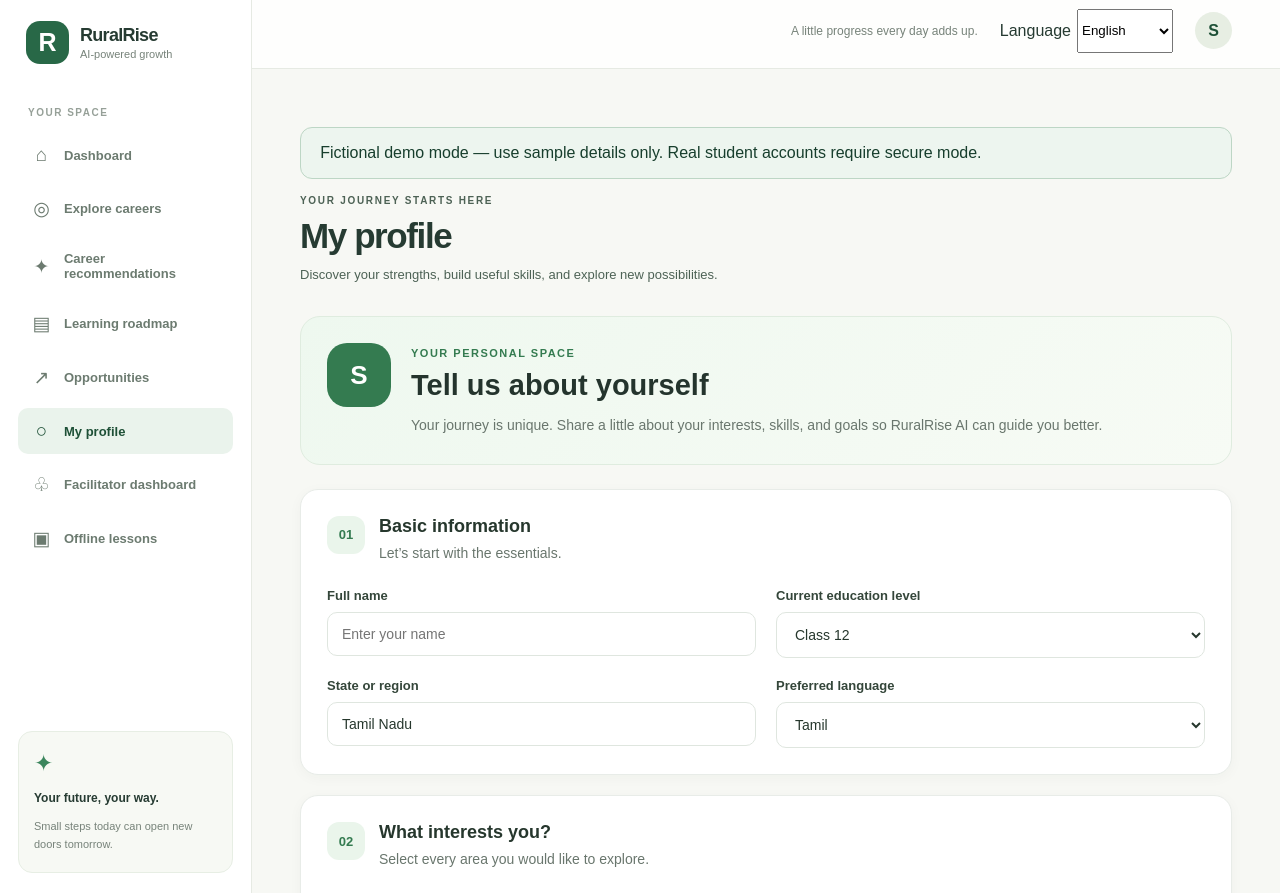
Scenario: shows failed profile persistence and never claims a successful save
Step 1. Type "Fictional Test Learner" into the field labelled "Full name" → (542, 634), box [327,612,756,656]
(page scrolled)
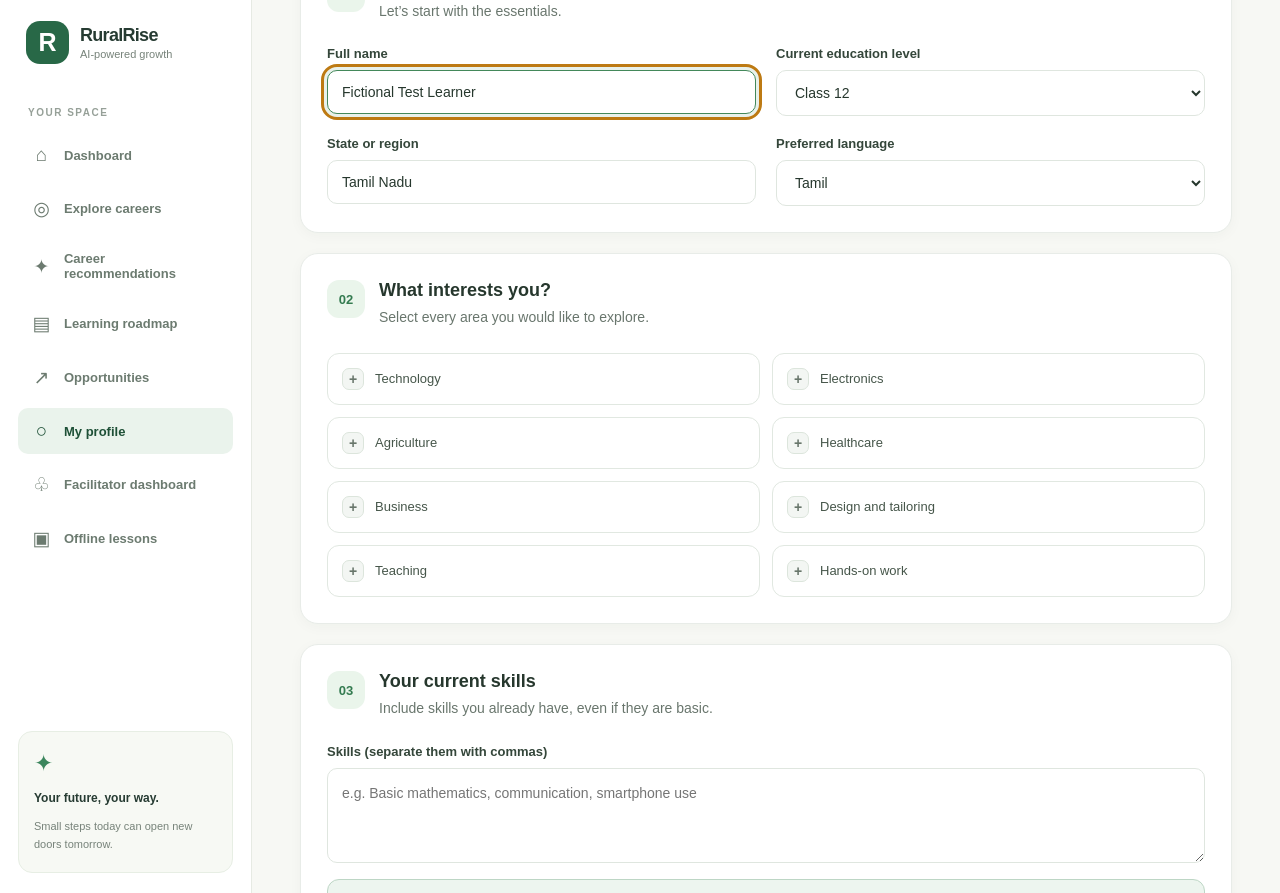
Step 2. Click the checkbox labelled "+ Agriculture" → (406, 443), box [327,417,760,469]
(page scrolled)
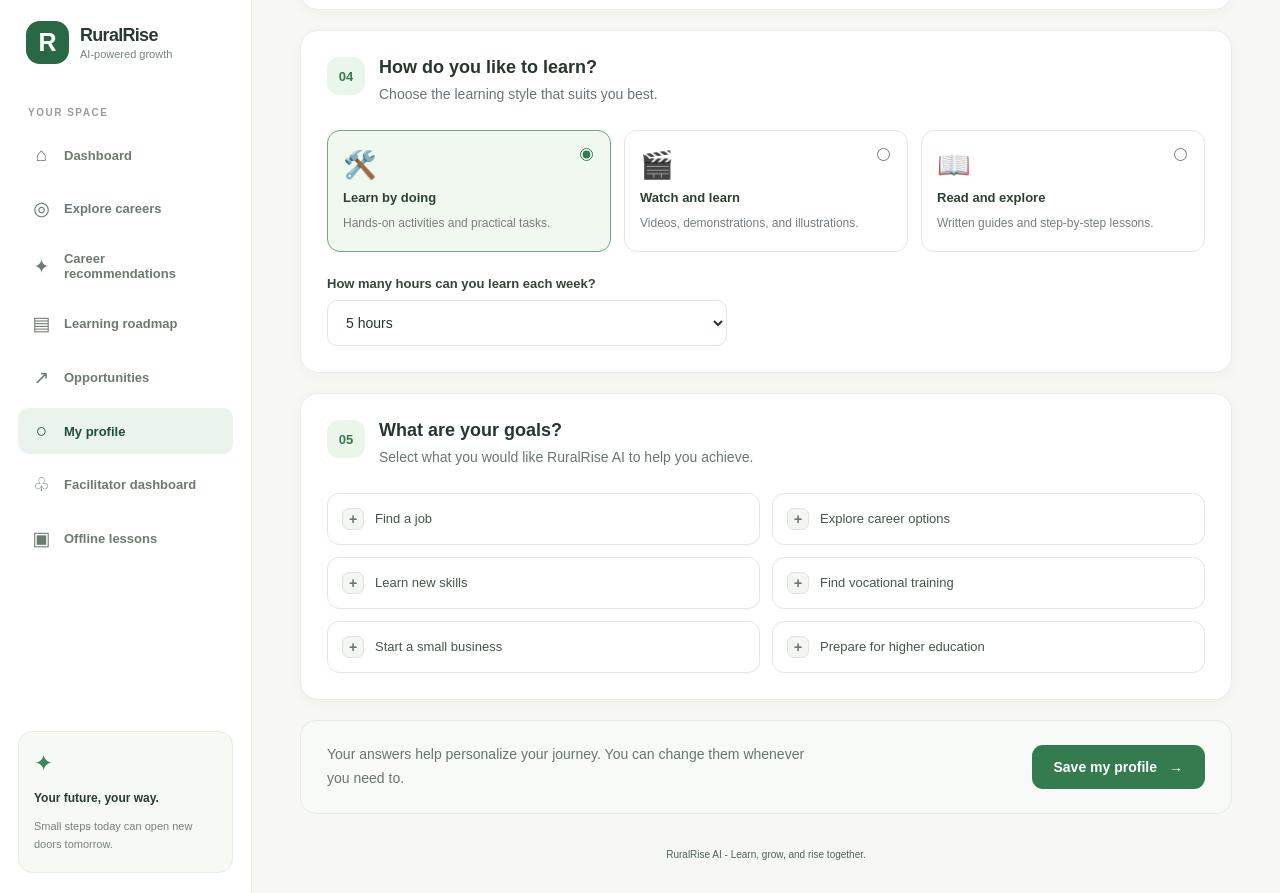
Step 3. Click the button "Save my profile →" → (1118, 767), box [1032,745,1205,789]
(page scrolled)
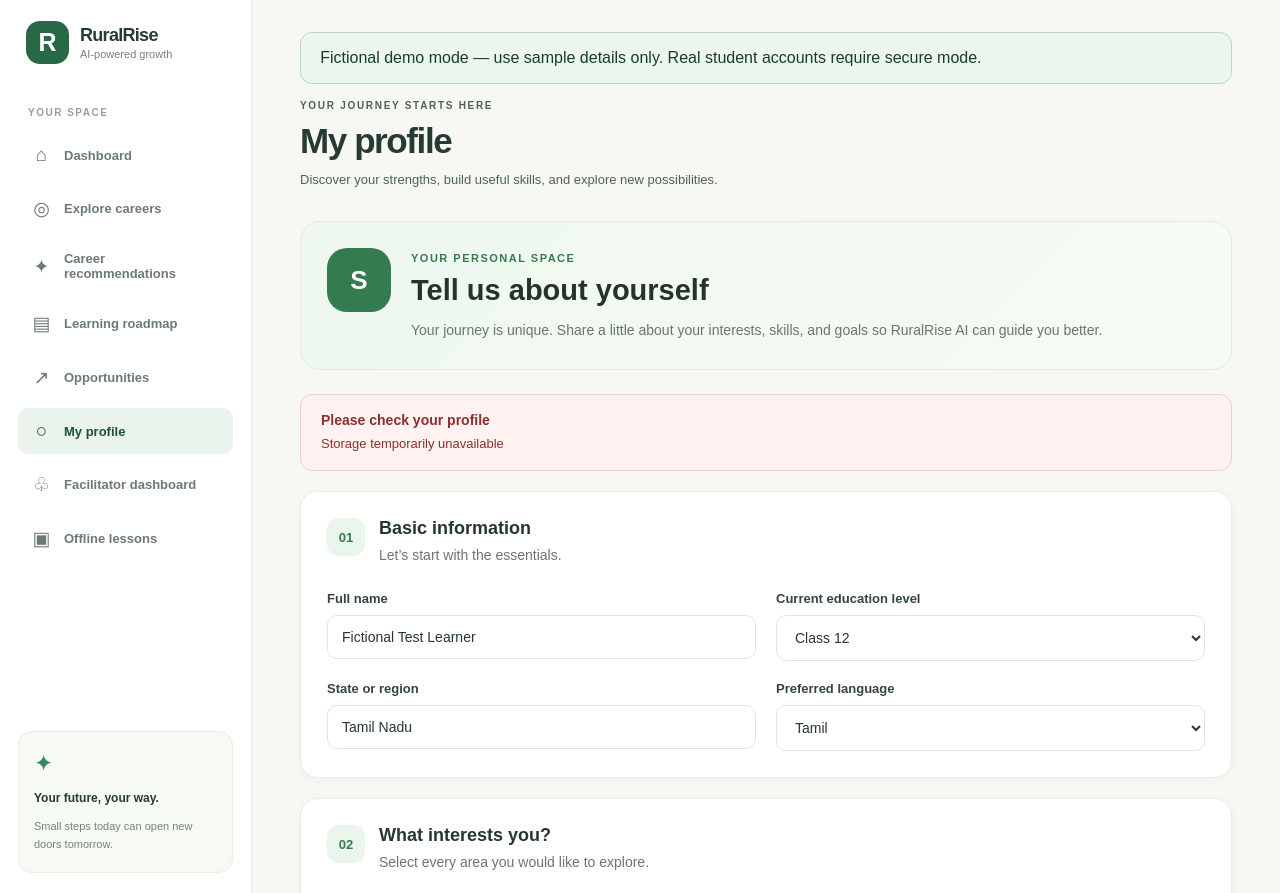
Check: the text "Storage temporarily unavailable" is shown, box [321,436,504,451]
